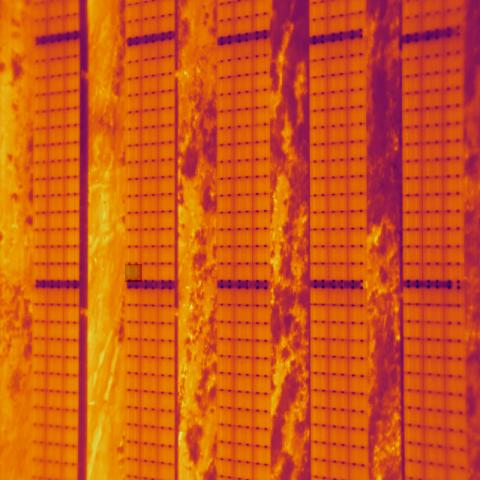fault: (125, 264, 142, 282)
